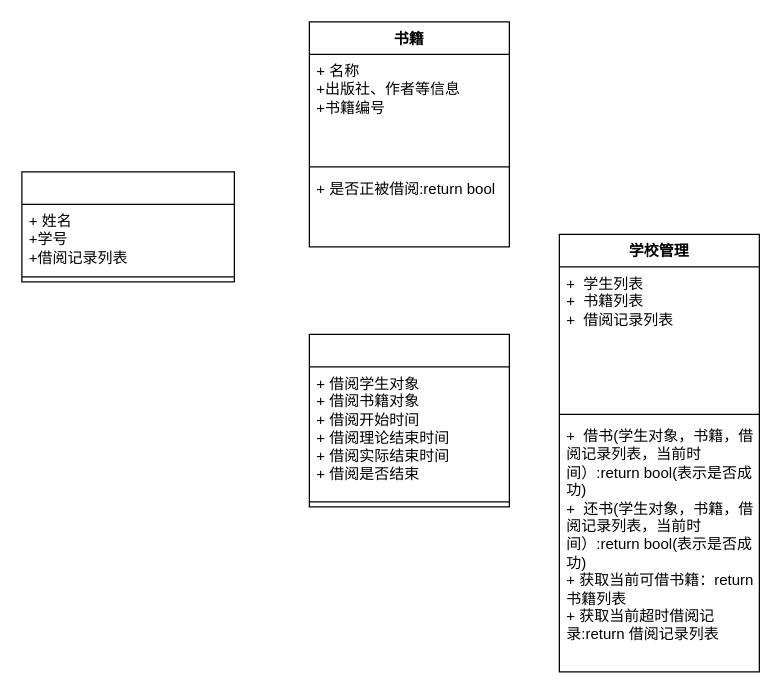
The diagram is 781 pixels wide and 698 high, and some of its shapes have lost their labels. Each missing label, with the box of its shape:
借阅记录: (308, 333, 509, 507)
学生: (21, 171, 234, 282)
